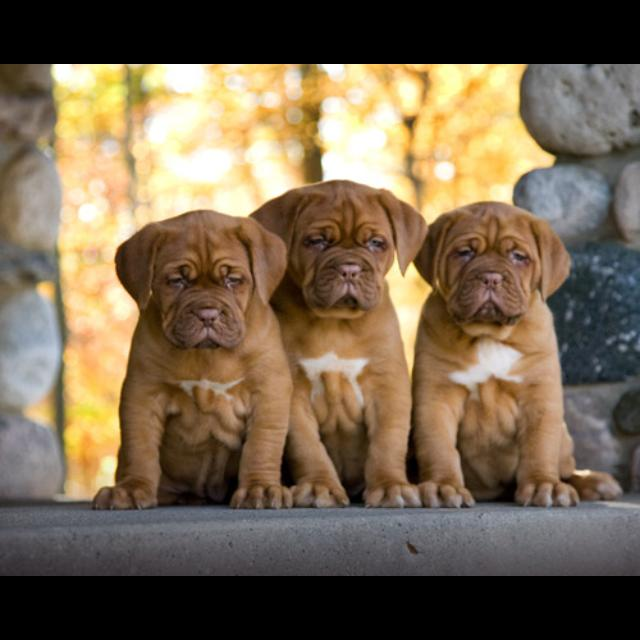dogue_de_bordeaux: (411, 201, 624, 509), (92, 208, 294, 510), (248, 179, 429, 509)
